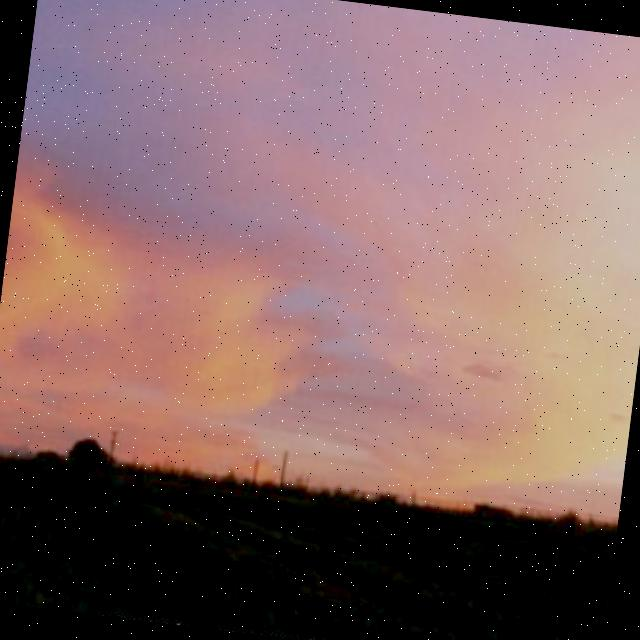As: (1, 40, 640, 465)
